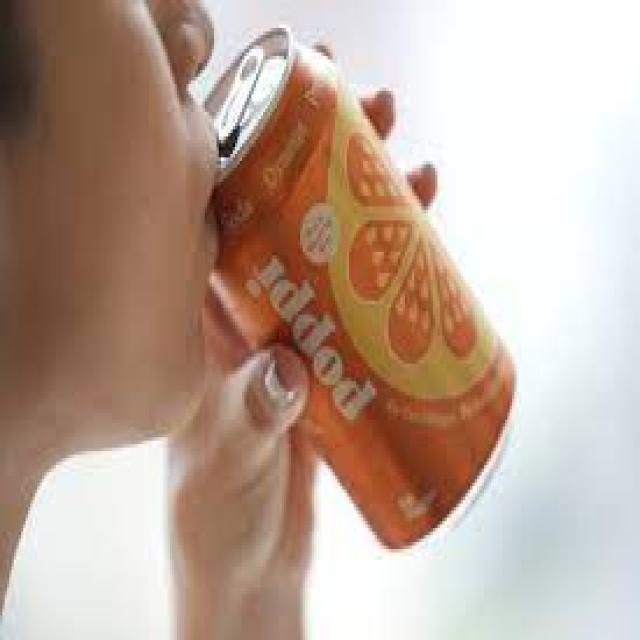Cans: (196, 21, 524, 560)
